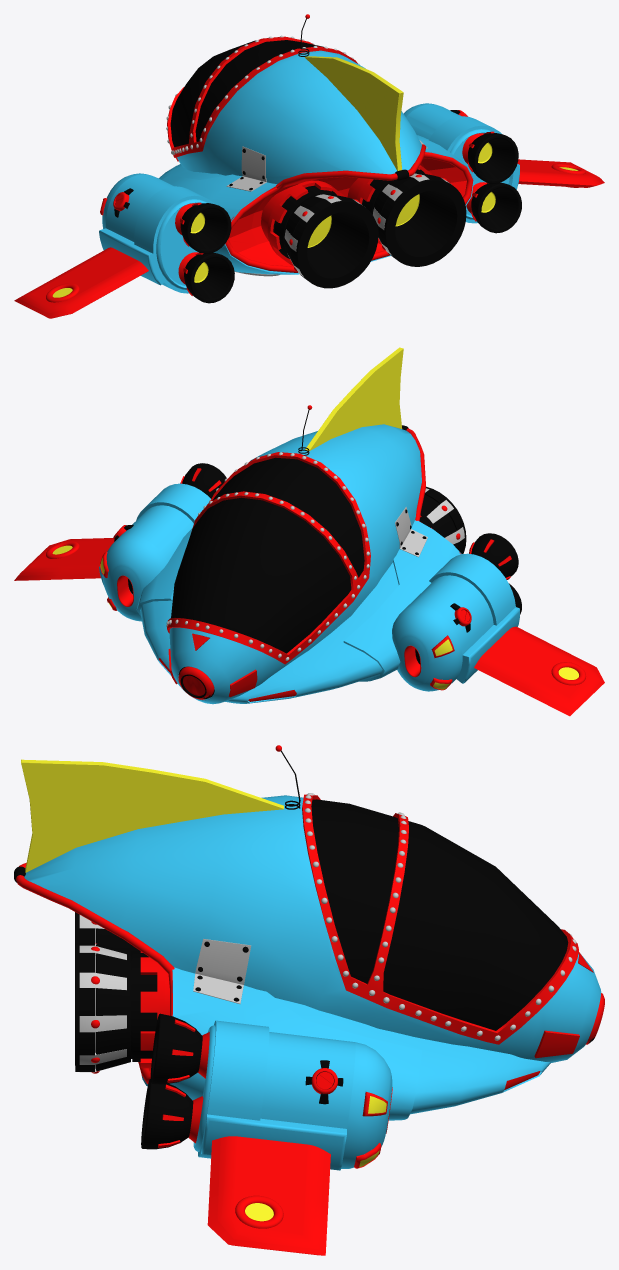
Rendered from Ship.fbx.
3 views of the same model, one above another, from view 1: azimuth 30°, elevation 25°; view 2: azimuth 150°, elevation 25°; view 3: azimuth 270°, elevation 25° (orthographic). The views are drawn at different scales.
Parts seen in each view (by area): view 1: Sphere, Cylinder, Cylinder_3, Cube_2, Sphere_1_4, Sphere_5, Sphere_1, Cube, Sweep_2, Cylinder_6, REMACHES; view 2: Sphere, Cylinder_3, Sphere_1, Cube_2, Cube, Sphere_1_4, Cylinder, Cylinder_6, REMACHES; view 3: Sphere, Cylinder_3, Sphere_1, Cube, Cube_2, Cylinder, Sphere_5, Sphere_1_4, Sweep_2, REMACHES, Cylinder_6.
Part boxes in pixels (x1=…): Sphere: x1=167, y1=36, x2=466, y2=266; Cylinder: x1=261, y1=165, x2=466, y2=288; Cylinder_3: x1=99, y1=103, x2=519, y2=293; Cube_2: x1=14, y1=159, x2=604, y2=318; Sphere_1_4: x1=175, y1=131, x2=518, y2=253; Sphere_5: x1=178, y1=182, x2=521, y2=303; Sphere_1: x1=158, y1=135, x2=473, y2=274; Cube: x1=305, y1=56, x2=403, y2=170; Sweep_2: x1=225, y1=144, x2=473, y2=272; Cylinder_6: x1=46, y1=163, x2=585, y2=302; REMACHES: x1=166, y1=35, x2=359, y2=154; Sphere: x1=167, y1=424, x2=421, y2=704; Cylinder_3: x1=99, y1=483, x2=519, y2=691; Sphere_1: x1=136, y1=507, x2=461, y2=703; Cube_2: x1=14, y1=538, x2=604, y2=716; Cube: x1=305, y1=347, x2=403, y2=450; Sphere_1_4: x1=180, y1=463, x2=518, y2=579; Cylinder: x1=419, y1=486, x2=466, y2=553; Cylinder_6: x1=46, y1=541, x2=585, y2=685; REMACHES: x1=166, y1=452, x2=369, y2=660; Sphere: x1=24, y1=794, x2=604, y2=1072; Cylinder_3: x1=193, y1=1020, x2=392, y2=1170; Sphere_1: x1=141, y1=939, x2=550, y2=1120; Cube: x1=21, y1=759, x2=283, y2=872; Cube_2: x1=207, y1=1136, x2=330, y2=1255; Cylinder: x1=75, y1=912, x2=169, y2=1072; Sphere_5: x1=141, y1=1079, x2=203, y2=1149; Sphere_1_4: x1=150, y1=1013, x2=209, y2=1084; Sweep_2: x1=16, y1=863, x2=174, y2=1083; REMACHES: x1=304, y1=793, x2=576, y2=1040; Cylinder_6: x1=235, y1=1195, x2=283, y2=1228.
Bounding box in the file's own units: 936 × 393 × 621.
